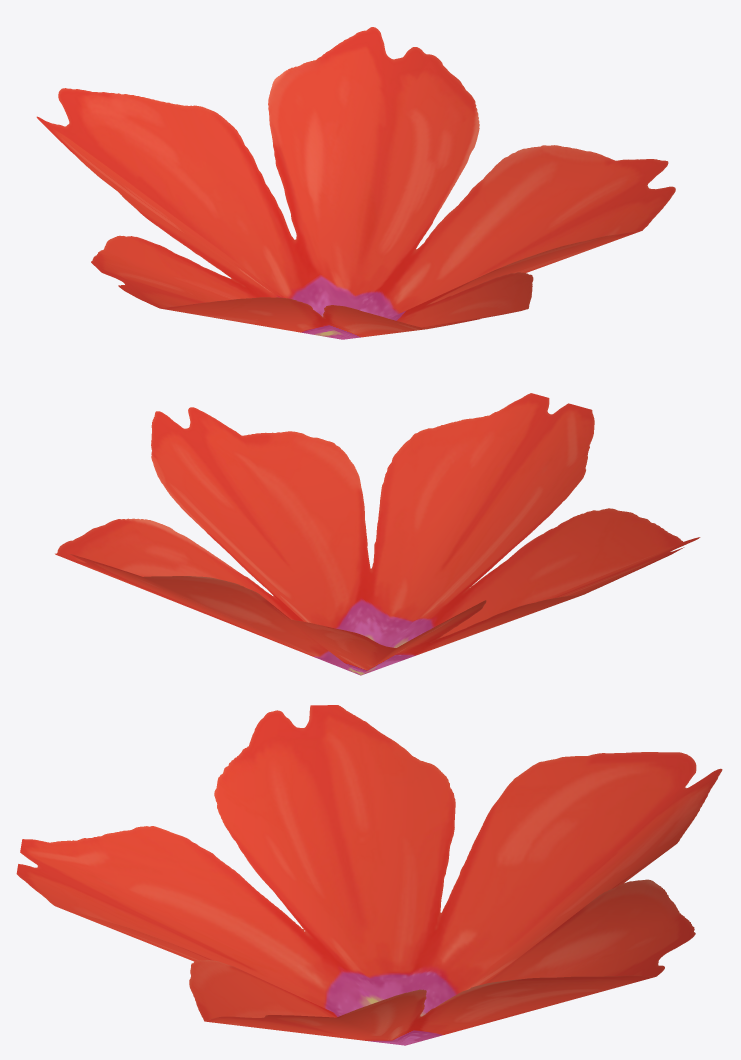
Rendered from Flower_Petal_3.gltf.
The picture shows the model from 3 angles, top to bottom: view 1: azimuth 30°, elevation 25°; view 2: azimuth 150°, elevation 25°; view 3: azimuth 270°, elevation 25°; orthographic projection. The views are drawn at different scales.
Parts seen in each view (by area): view 1: Petal_3; view 2: Petal_3; view 3: Petal_3.
Part boxes in pixels (x1,y1,x2,y2): Petal_3: (36, 27, 675, 339); Petal_3: (55, 393, 700, 675); Petal_3: (16, 705, 722, 1045).
Size of the model in its own units: 0.6195 by 0.1895 by 0.6064.
Materials: 1 (1 with a texture image).
